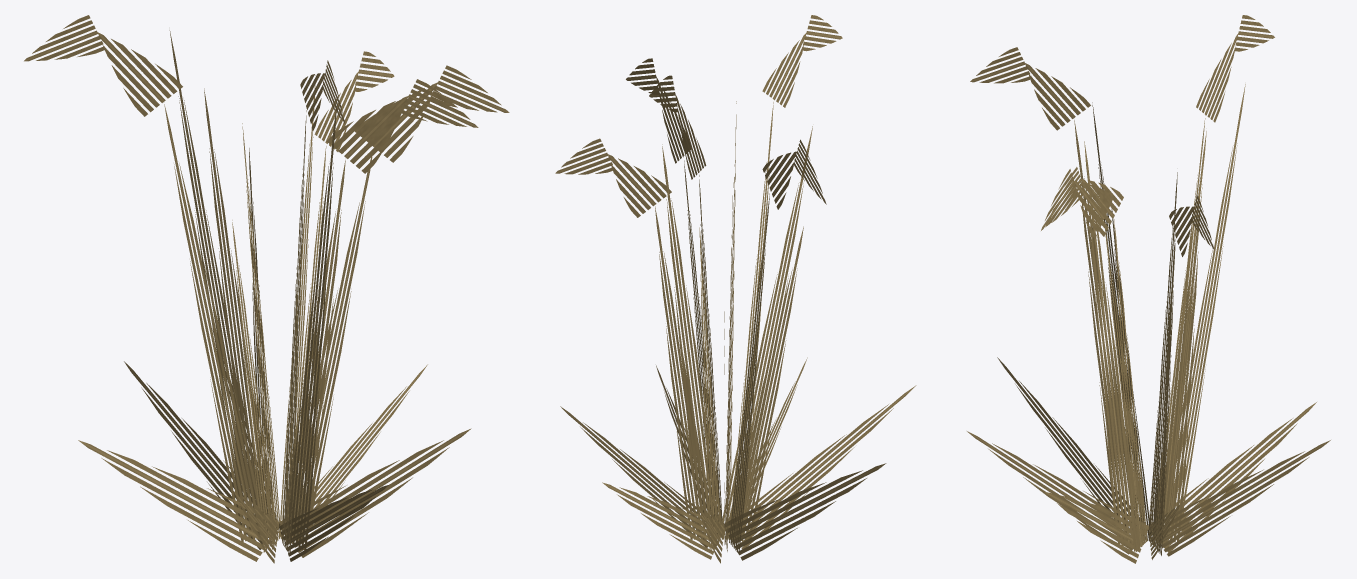
The picture shows the model from 3 angles, left to right: view 1: azimuth 30°, elevation 25°; view 2: azimuth 150°, elevation 25°; view 3: azimuth 270°, elevation 25°; orthographic projection. The views are drawn at different scales.
Parts seen in each view (by area): view 1: 억새_01; view 2: 억새_01; view 3: 억새_01.
Boxes of the visible parts, <box> form: 억새_01: <box>24,15,509,563</box>; 억새_01: <box>555,15,916,563</box>; 억새_01: <box>967,15,1330,563</box>.
Bounding box in the file's own units: 1465 × 2052 × 1437.
Materials: 1 (1 with a texture image).
